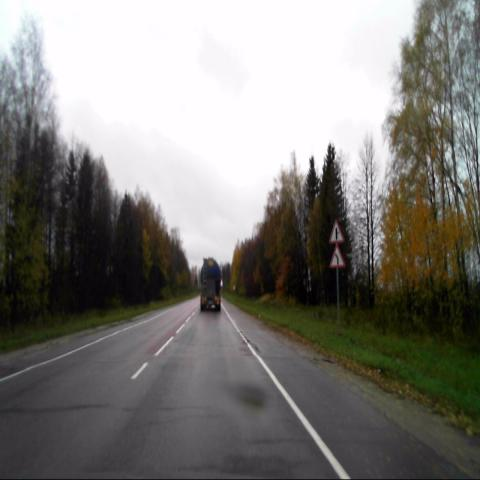1_11_1: (330, 244, 345, 269)
2_3_2: (330, 220, 343, 243)
